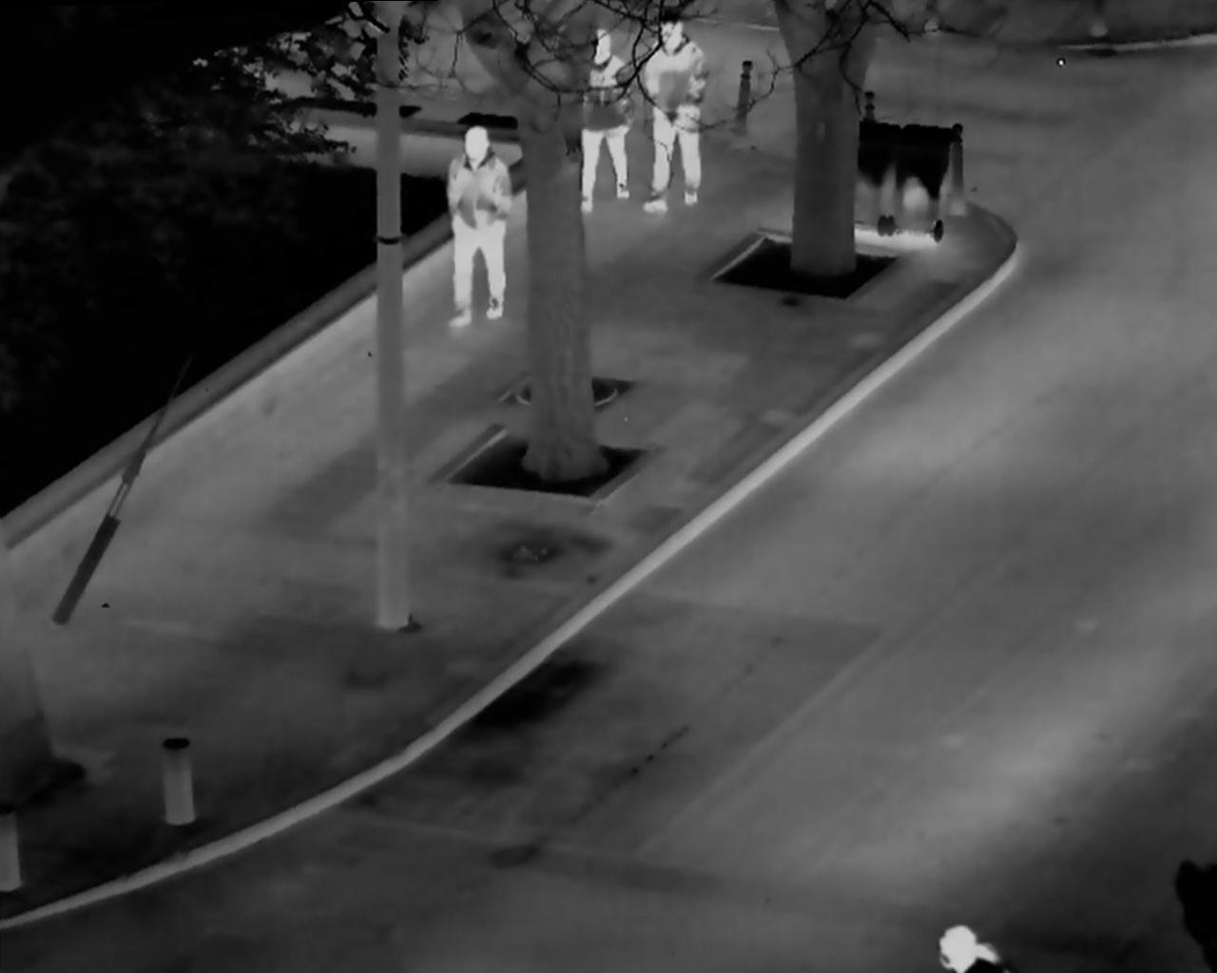person: (644, 14, 728, 219), (435, 113, 516, 325), (573, 28, 643, 209), (912, 907, 1020, 973)
